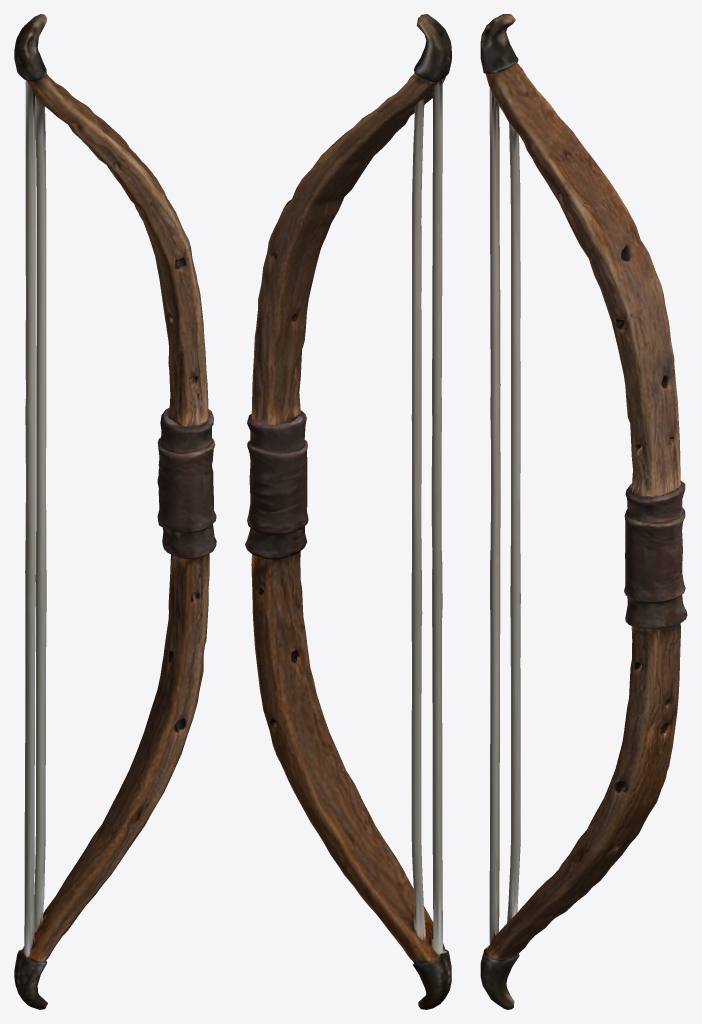
File: arco-caca-m69.glb
The picture shows the model from 3 angles, left to right: view 1: azimuth 30°, elevation 25°; view 2: azimuth 150°, elevation 25°; view 3: azimuth 330°, elevation 25°; orthographic projection.
Visible parts, largest first — view 1: arco-caca; view 2: arco-caca; view 3: arco-caca.
Part boxes in pixels (<box>): arco-caca: <box>14,14,216,1009</box>; arco-caca: <box>245,14,451,1009</box>; arco-caca: <box>480,14,687,1009</box>.
Size of the model in its own units: 0.2079 by 0.9999 by 0.0566.
1 material, 1 textured.
